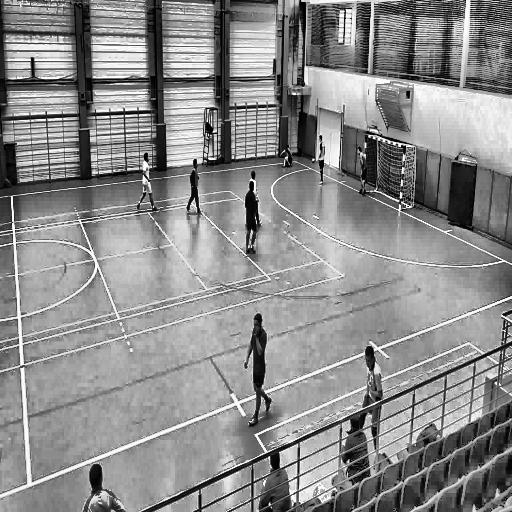ball: (311, 156, 316, 165)
player: (347, 343, 383, 469), (243, 312, 273, 434), (136, 150, 161, 216), (184, 158, 204, 218), (245, 182, 260, 257), (248, 169, 262, 226), (357, 145, 369, 201), (318, 134, 326, 189), (279, 142, 294, 171)
